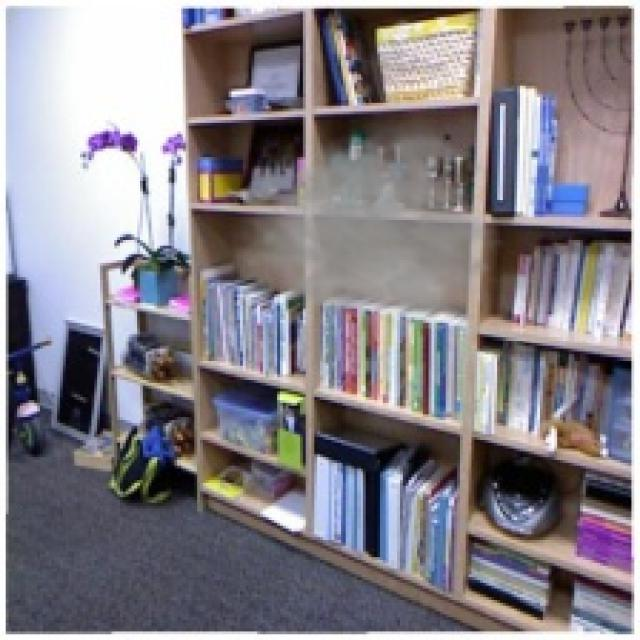smoke: (234, 117, 509, 329)
